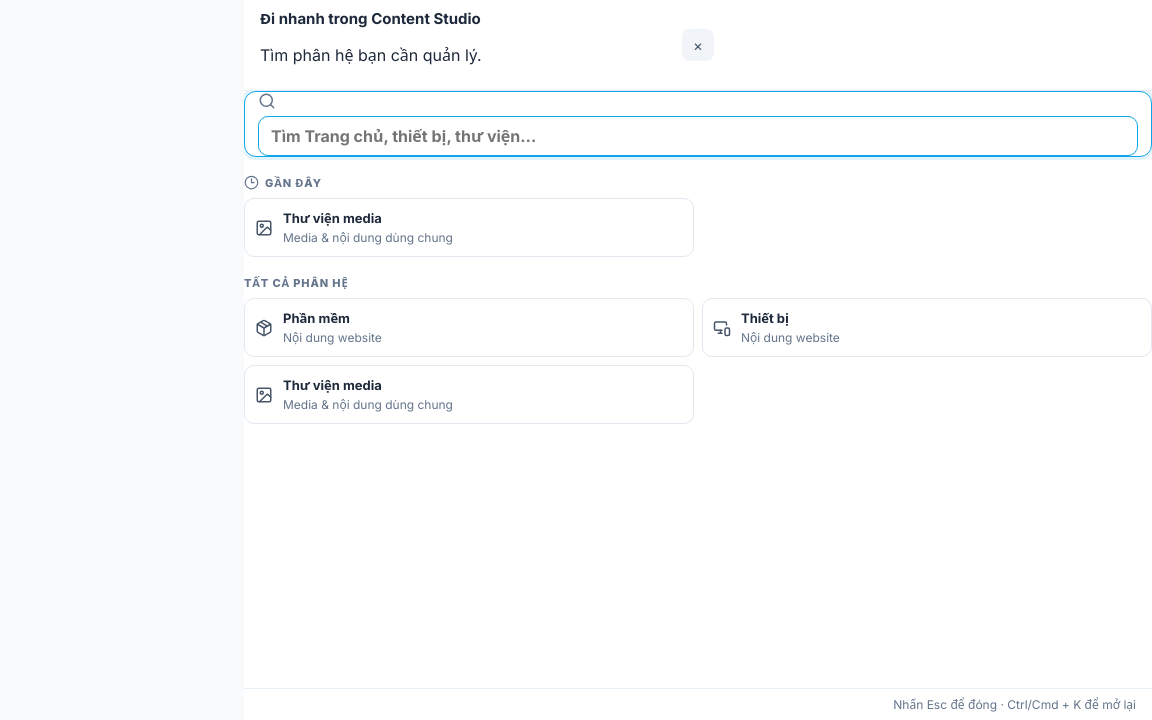
Test: ContentQuickSwitcher › shows recent modules and filters the available modules
Expected: the heading "Gần đây" is shown, [244,175,322,190]
Expected: the text "Thư viện media" below "Gần đây" is shown, [283,210,382,226]
Type "thiết bị" into the search field with placeholder "Tìm Trang chủ, thiết bị, thư viện…". click: (698, 136)
box: [258,116,1138,156]
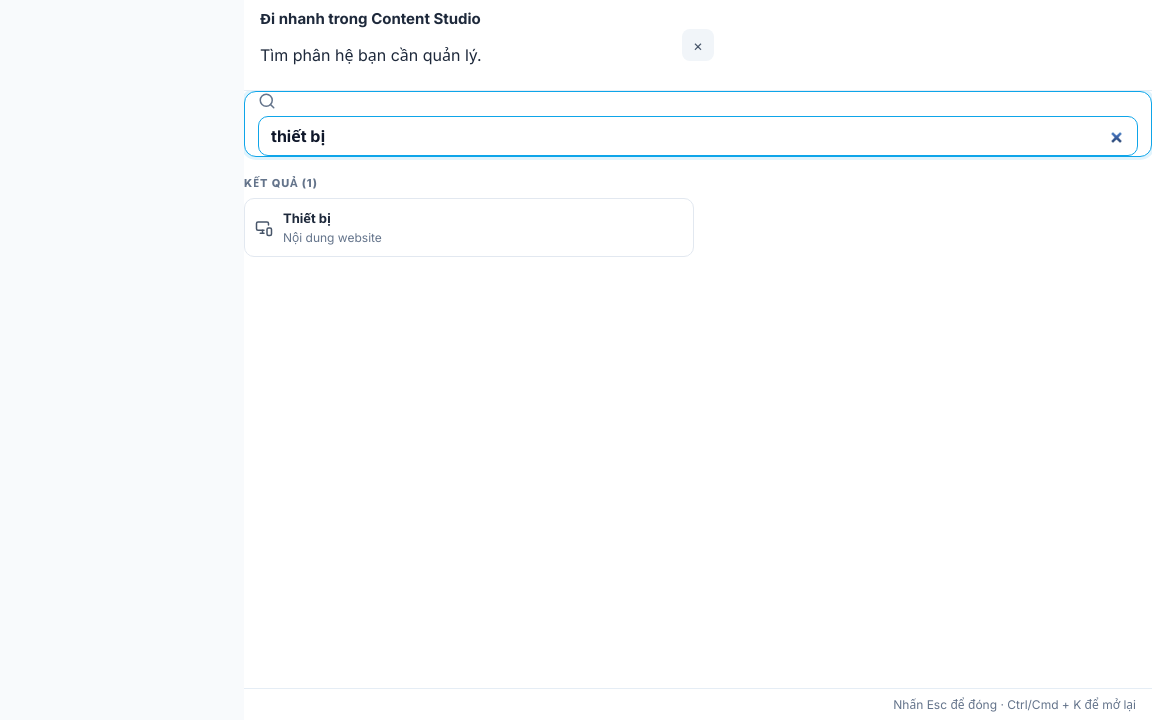
Expected: the text "Thiết bị" is shown, [283,210,331,226]
Now the button "Phần mềm" is gone
